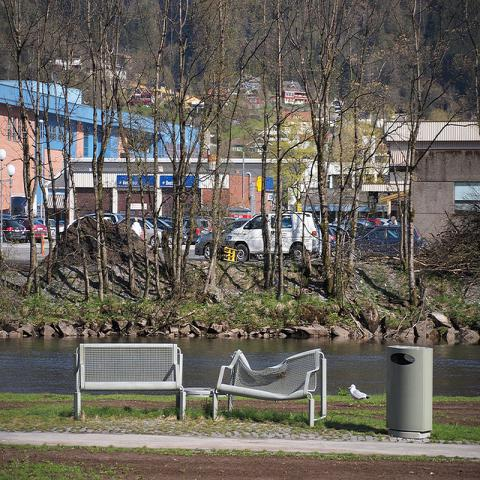car: (103, 211, 398, 238), (226, 211, 320, 262), (194, 218, 251, 260), (344, 226, 428, 252), (118, 217, 164, 247), (15, 216, 47, 243), (2, 214, 27, 241), (37, 218, 57, 243), (183, 218, 202, 244), (145, 216, 173, 230), (329, 226, 336, 257), (356, 218, 372, 231), (367, 218, 382, 228), (59, 220, 64, 233)
